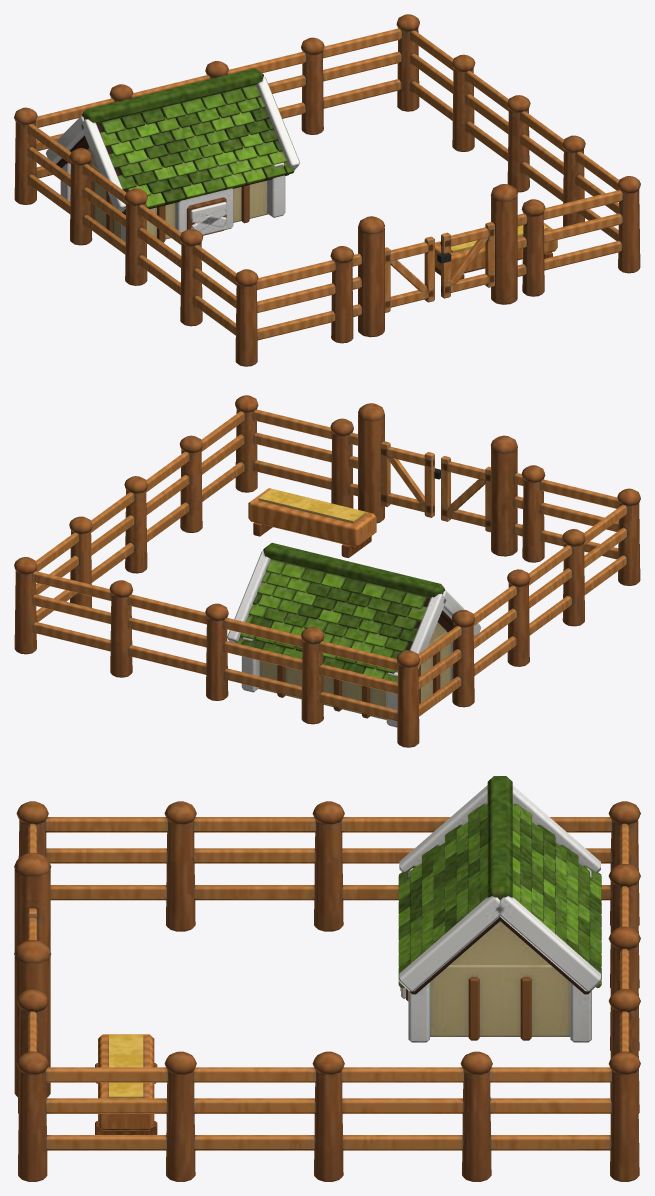
Rendered from quail_coop.glb.
3 views of the same model, one above another, from view 1: azimuth 30°, elevation 25°; view 2: azimuth 150°, elevation 25°; view 3: azimuth 270°, elevation 25° (orthographic). The views are drawn at different scales.
Visible parts, largest first — view 1: quail_coop, gate1, gate0; view 2: quail_coop, gate1, gate0; view 3: quail_coop.
Part boxes in pixels (x1,y1,x2,y2): quail_coop: (14,14,640,366); gate1: (437,222,494,298); gate0: (385,236,434,312); quail_coop: (14,395,640,747); gate1: (381,441,440,517); gate0: (441,456,490,532); quail_coop: (14,776,640,1181).
Size of the model in its own units: 2 by 0.575 by 2.01.
Materials: 1 (1 with a texture image).
